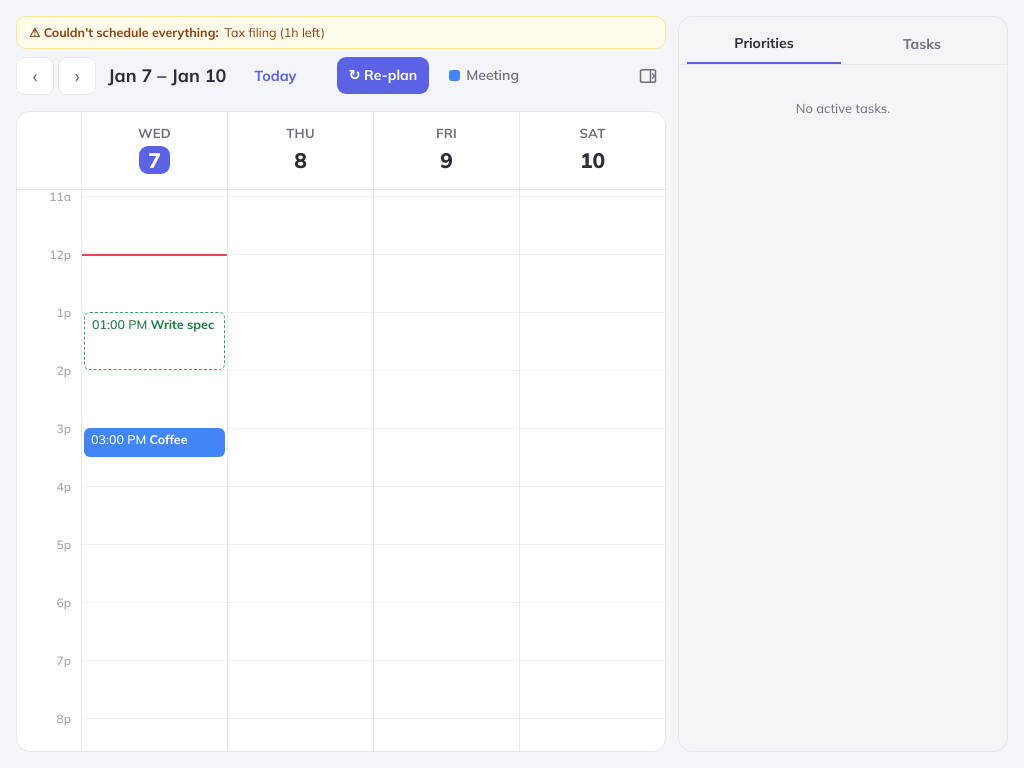
Test: Planner › clicking an app-created event opens the event edit drawer, prefilled
(page scrolled)
expect the text "Coffee" is shown: met, box [150,431,188,447]
Press the mouse on the element with test id "event-block": (154, 442) [84,428,225,457]
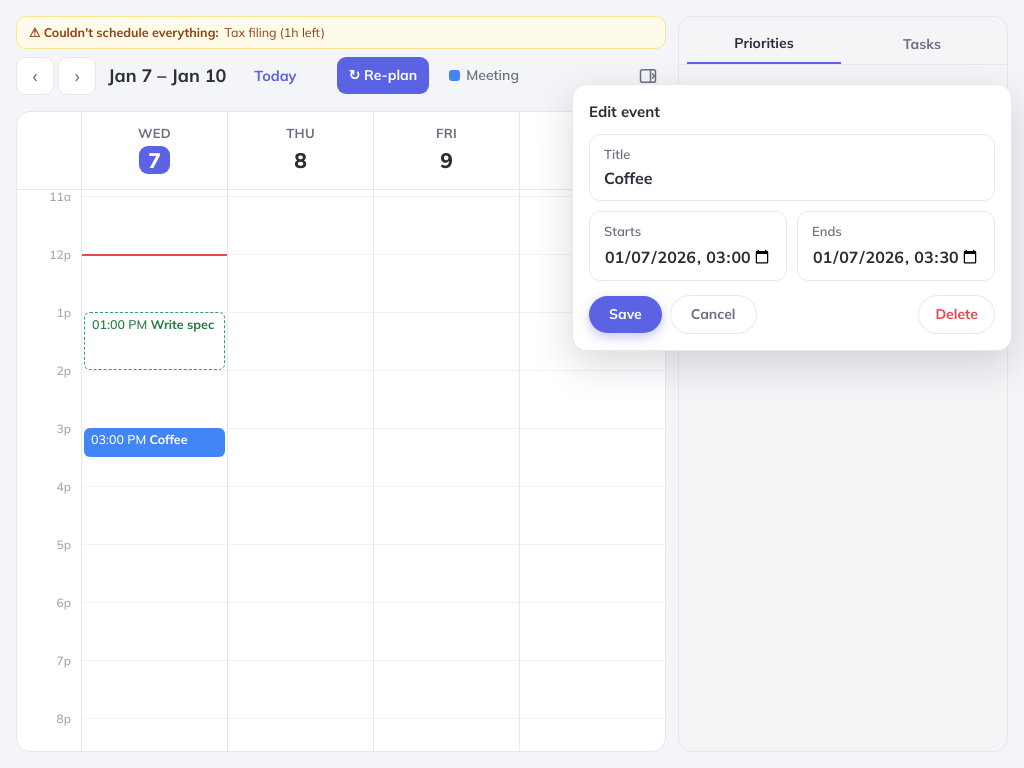
expect the element with test id "event-drawer" is shown: met, box [572,84,1012,350]
expect the field with test id "event-title" holds "Coffee": met, box [604,166,980,190]
expect the field with test id "event-start" holds "2026-01-07T15:00": met, box [604,244,772,270]
